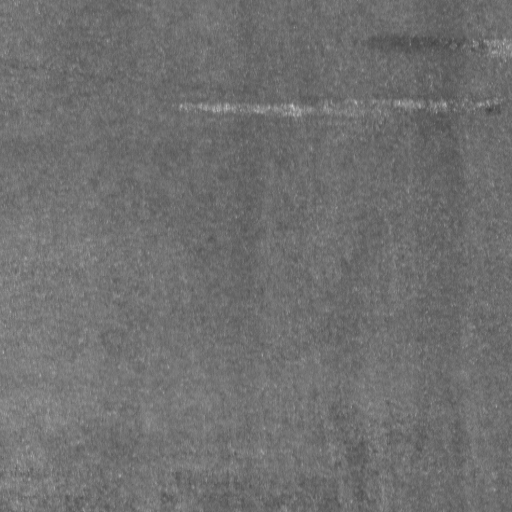hengxianghuashang: (176, 86, 509, 118), (370, 32, 512, 61)
